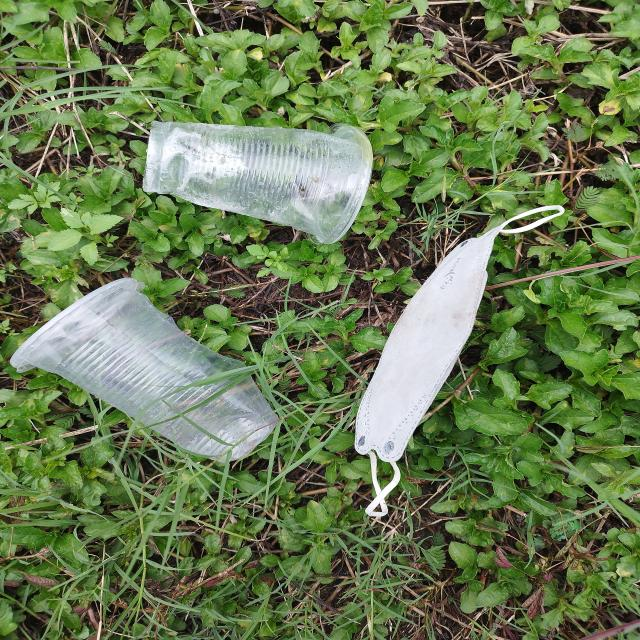mask: (354, 205, 566, 517)
plastic glass: (11, 278, 278, 462), (144, 120, 374, 245)
